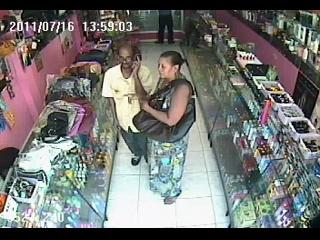Normal: (133, 50, 196, 204), (100, 43, 156, 166), (154, 10, 176, 44), (75, 50, 108, 65)
